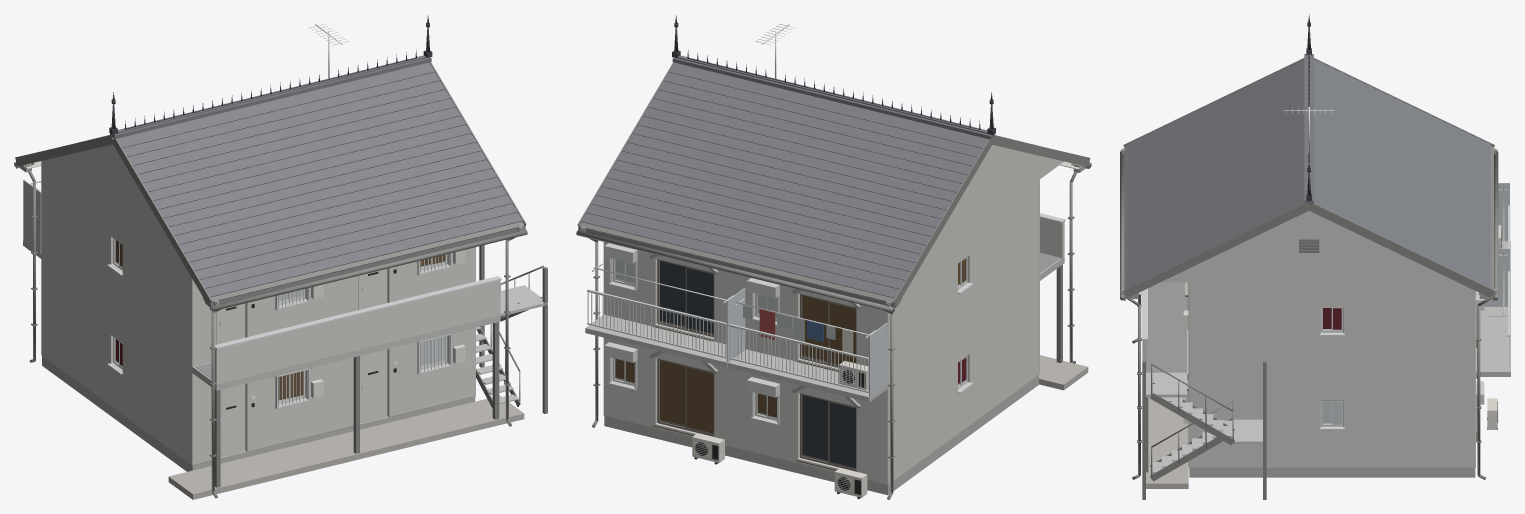
Rendered from blk_outerm1_0_1.glb.
3 renders of one model, left to right at view 1: azimuth 30°, elevation 25°; view 2: azimuth 150°, elevation 25°; view 3: azimuth 270°, elevation 25°, orthographic. The views are drawn at different scales.
Visible parts, largest first — view 1: blk_outerm1_0_1; view 2: blk_outerm1_0_1; view 3: blk_outerm1_0_1.
Boxes of the visible parts, left/top/right/bottom form: blk_outerm1_0_1: left=14, top=15, right=547, bottom=499; blk_outerm1_0_1: left=576, top=15, right=1091, bottom=499; blk_outerm1_0_1: left=1120, top=14, right=1510, bottom=499.
Size of the model in its own units: 10.53 by 9.89 by 10.55.
